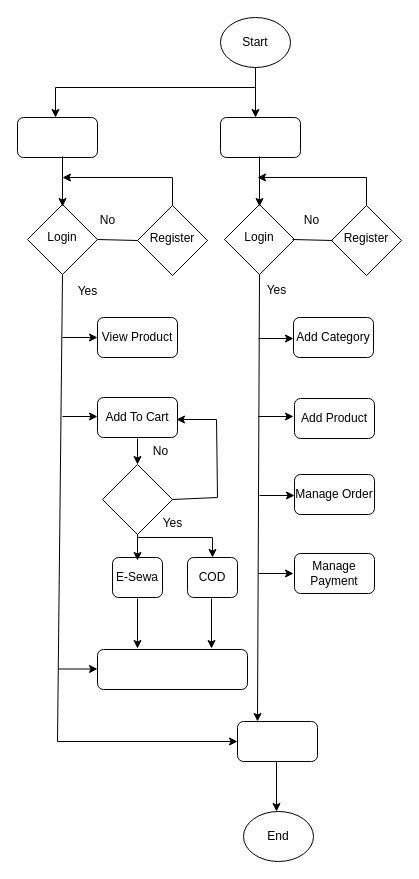
Image size: 419x879. Some labels were removed from this diagram. Here are the shapes that lost their labels. From the top down, the box of each, then its label:
(16, 116, 98, 158): User
(220, 116, 300, 158): Admin
(102, 464, 172, 534): Payment
(96, 648, 248, 690): Order Placed
(236, 720, 318, 762): Logout
